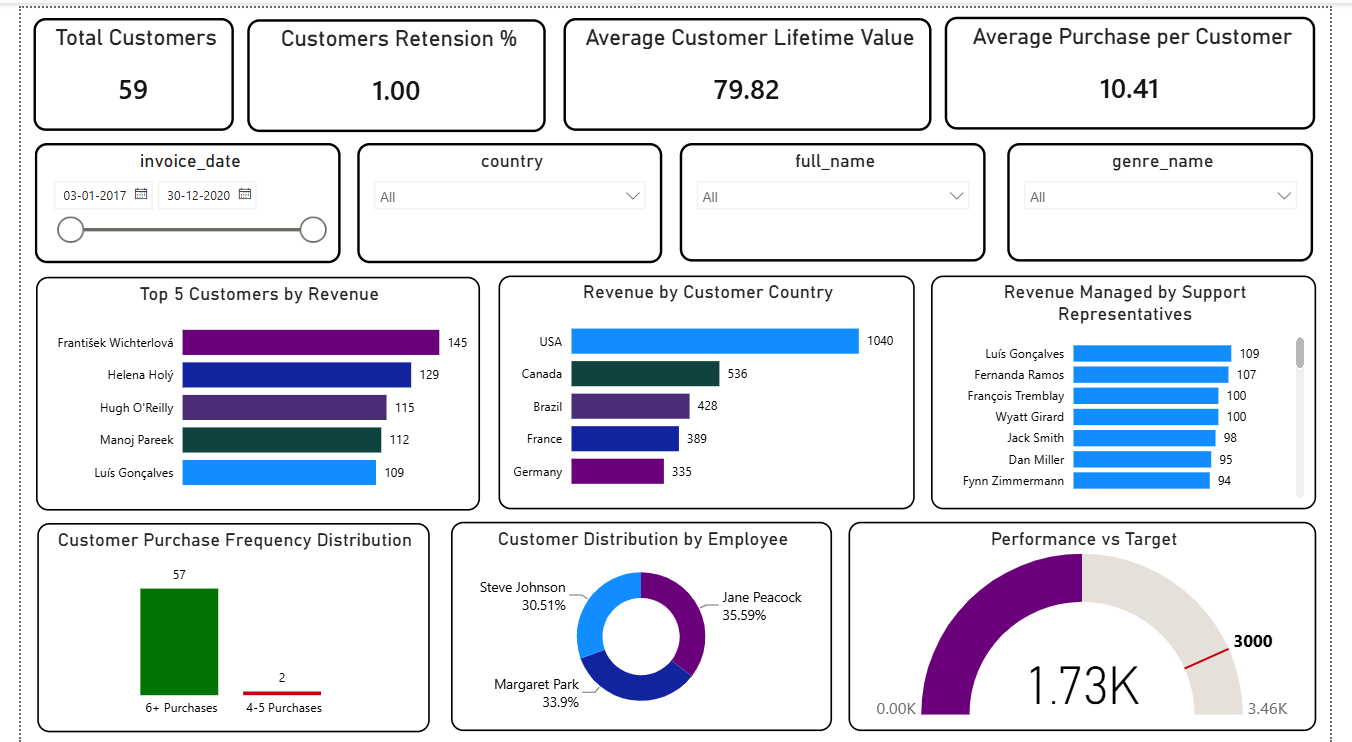

The dashboard page shown, as its layout file describes it:
{"tool":"powerbi","page":{"name":"2. Customer Analytics","canvas":[1280,720],"ordinal":1},"visuals":[{"type":"cardVisual","title":"Customers Retension %","fields":{"Data":["customer.Customer Retention %"]},"box":[220.8,10.6,292.2,110],"z":0},{"type":"cardVisual","title":"Total Customers","fields":{"Data":["customer.Total Customers"]},"box":[11.9,9.3,195.7,110],"z":1000},{"type":"cardVisual","title":"Average Customer Lifetime Value","fields":{"Data":["invoice.Avg Customer Lifetime Value"]},"box":[530.2,9.3,359.7,110],"z":2000},{"type":"cardVisual","title":"Average Purchase per Customer","fields":{"Data":["invoice.Avg Purchases per Customer"]},"box":[904,8.9,362.1,110],"z":3000},{"type":"clusteredBarChart","title":"Top 5 Customers by Revenue","fields":{"Category":["customer.Full Name"],"Y":["invoice.Total Revenue"]},"box":[14.7,262.9,434.1,229],"z":4000},{"type":"columnChart","title":"Customer Purchase Frequency Distribution","fields":{"Category":["customer.Purchase Category"],"Y":["customer.Total Customers"]},"box":[15.4,504.2,383.9,205.1],"z":5000},{"type":"clusteredBarChart","title":"Revenue by Customer Country","fields":{"Category":["customer.country"],"Y":["invoice.Total Revenue"]},"box":[467.1,261.7,407.2,229],"z":6000},{"type":"clusteredBarChart","title":"Revenue Managed by Support Representatives","fields":{"Category":["customer.Full Name"],"Y":["invoice.Total Revenue"]},"box":[890.2,261.9,376.6,229],"z":7000},{"type":"donutChart","title":"Customer Distribution by Employee","fields":{"Category":["employee.Full_Name"],"Y":["CountNonNull(customer.customer_id)"]},"box":[420.9,502.6,373.1,205.1],"z":8000},{"type":"gauge","title":"Performance vs Target","fields":{"TargetValue":["employee.Revenue Target"],"Y":["employee.Top Employee Revenue"]},"box":[809.5,502.6,457.9,205.1],"z":9000},{"type":"slicer","title":"country","fields":{"Values":["customer.country"]},"box":[328.9,132.3,298.4,117.4],"z":10000},{"type":"slicer","title":"invoice_date","fields":{"Values":["invoice.invoice_date"]},"box":[13.7,131.5,299.6,117.4],"z":11000},{"type":"slicer","title":"full_name","fields":{"Values":["employee.Full_Name"]},"box":[644.4,132.3,299.6,116.2],"z":12000},{"type":"slicer","title":"genre_name","fields":{"Values":["genre.name"]},"box":[964.8,132.3,299.6,116.2],"z":13000}]}

Visuals, with their boxes in screenshot pixels (x1, y1, x2, y2), scaled from the page's 1280x720 canvas onto the 1352x742 screenshot:
"Customers Retension %" cardVisual: <bbox>233, 11, 542, 124</bbox>
"Total Customers" cardVisual: <bbox>13, 10, 219, 123</bbox>
"Average Customer Lifetime Value" cardVisual: <bbox>560, 10, 940, 123</bbox>
"Average Purchase per Customer" cardVisual: <bbox>955, 9, 1337, 123</bbox>
"Top 5 Customers by Revenue" clusteredBarChart: <bbox>16, 271, 474, 507</bbox>
"Customer Purchase Frequency Distribution" columnChart: <bbox>16, 520, 422, 731</bbox>
"Revenue by Customer Country" clusteredBarChart: <bbox>493, 270, 923, 506</bbox>
"Revenue Managed by Support Representatives" clusteredBarChart: <bbox>940, 270, 1338, 506</bbox>
"Customer Distribution by Employee" donutChart: <bbox>445, 518, 839, 729</bbox>
"Performance vs Target" gauge: <bbox>855, 518, 1339, 729</bbox>
"country" slicer: <bbox>347, 136, 663, 257</bbox>
"invoice_date" slicer: <bbox>14, 136, 331, 257</bbox>
"full_name" slicer: <bbox>681, 136, 997, 256</bbox>
"genre_name" slicer: <bbox>1019, 136, 1336, 256</bbox>
